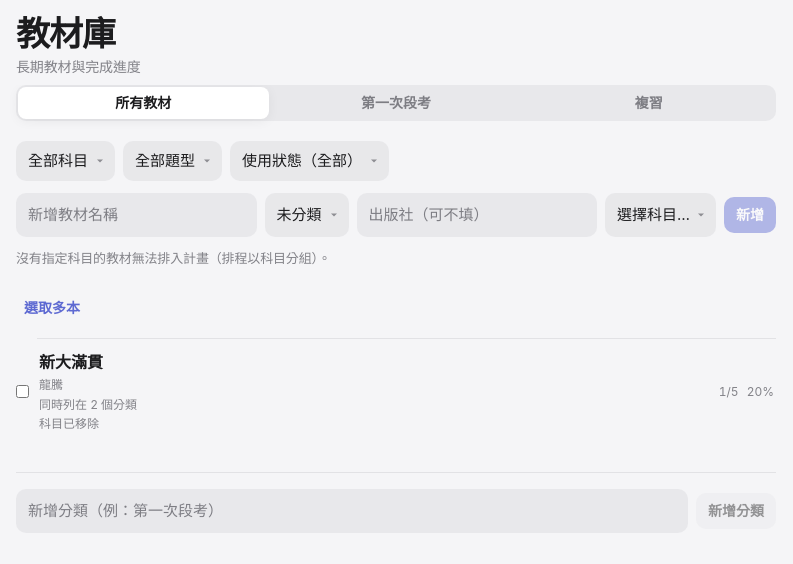
Test: Category 與 Book identity › 同一本書出現在兩個分類仍是同一個 identity，不畫成兩本
The image size is (793, 564).
Expected: the text "新大滿貫" is shown once, left=39, top=352, right=103, bottom=372
Expected: the text "同時列在 2 個分類" is shown, left=39, top=397, right=137, bottom=412
Click the button "新大滿貫 龍騰 同時列在 2 個分類 科目已移除 1/5 20%" at (71, 362), box left=37, top=338, right=776, bottom=444
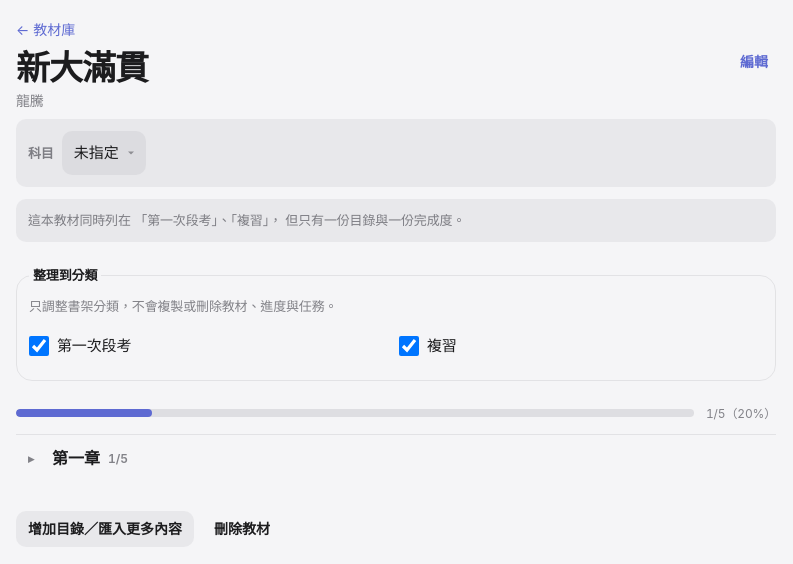
Expected: the text with class "ml-samebook" shows "「第一次段考」、「複習」", left=134, top=212, right=269, bottom=228
Expected: the text with class "ml-samebook" shows "只有一份目錄與一份完成度", left=269, top=212, right=465, bottom=228
